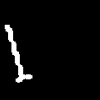half_double_crochet: (5, 25, 31, 81)
